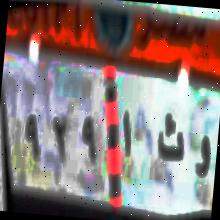2: (46, 101, 74, 168)
9: (19, 102, 48, 165), (77, 108, 103, 172)
alif: (119, 98, 140, 162)
thaa: (154, 106, 190, 170)
waw: (192, 130, 215, 188)
